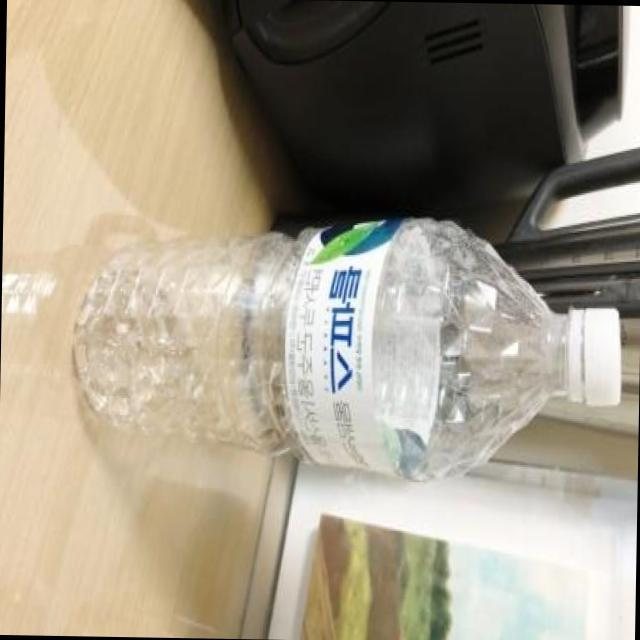good: (36, 205, 637, 509), (39, 263, 640, 441)
